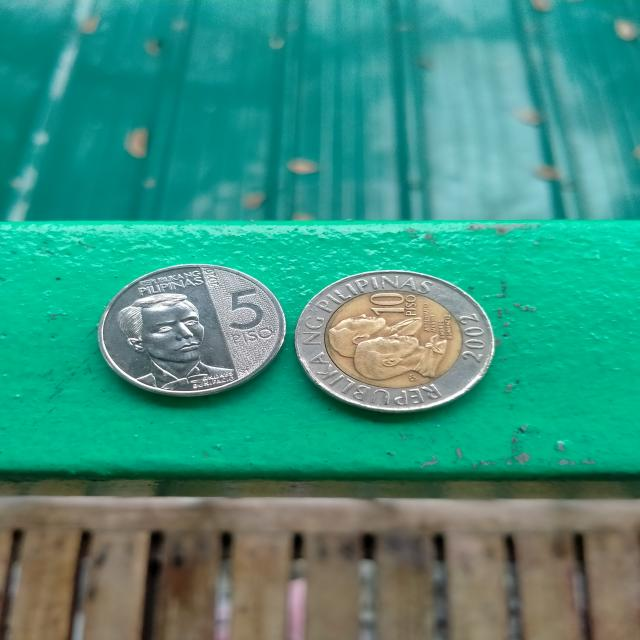10_Old_Front: (320, 286, 475, 400)
5_New_Front: (127, 281, 267, 385)
